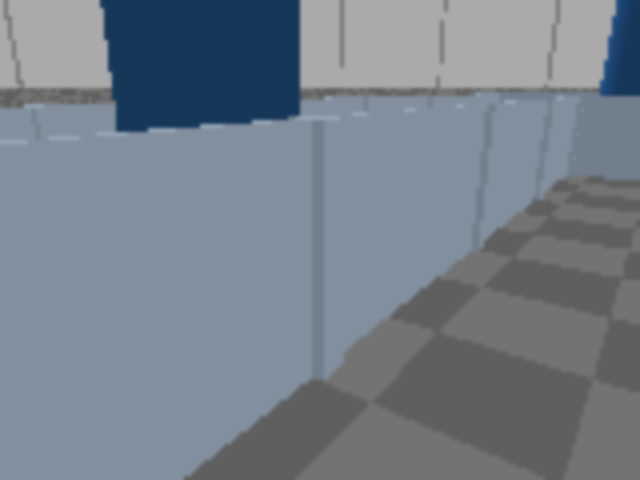person: (587, 0, 638, 174)
